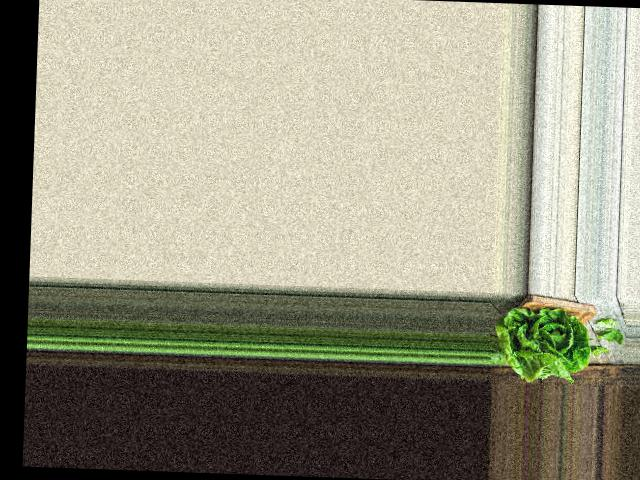lettuce: (492, 302, 587, 381)
